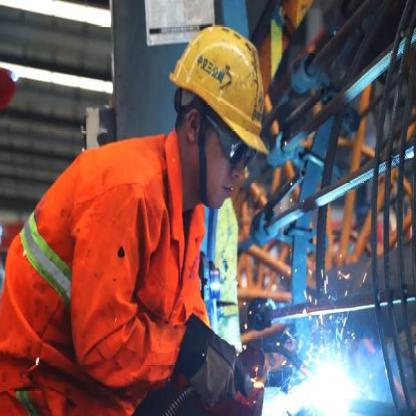helmet: (171, 25, 265, 147)
person: (1, 26, 266, 414)
vest: (18, 159, 200, 368)
